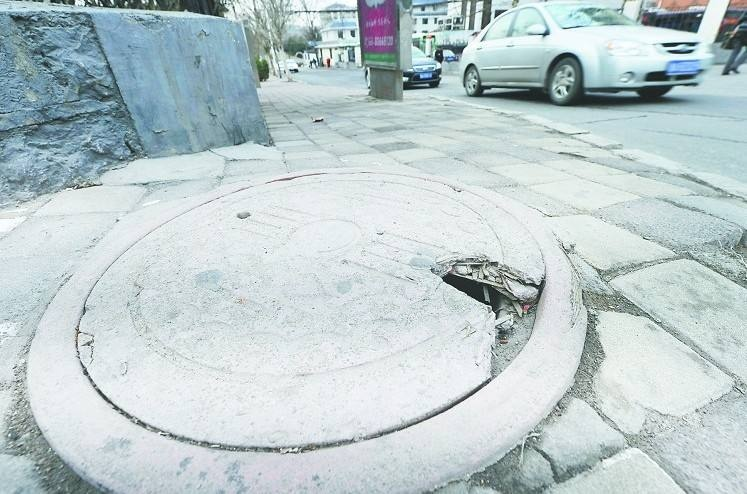broke: (74, 171, 545, 453)
